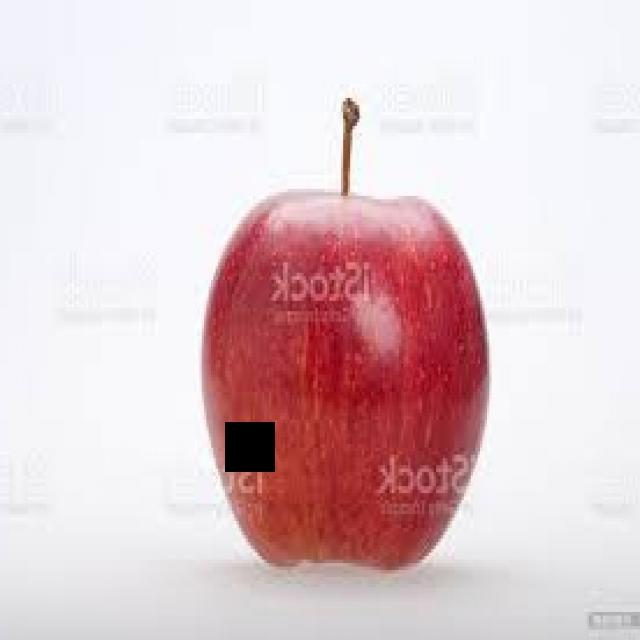red apple: (200, 182, 488, 580)
